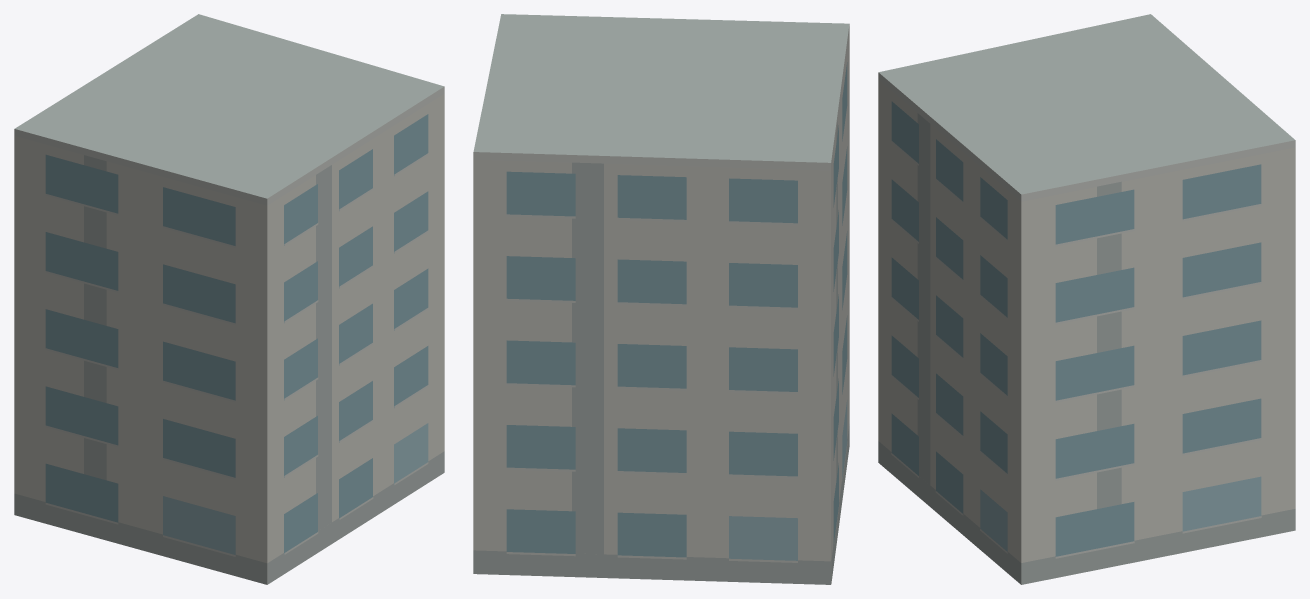
The model's file is survey-upis-32891458.glb.
3 renders of one model, left to right at view 1: azimuth 30°, elevation 25°; view 2: azimuth 150°, elevation 25°; view 3: azimuth 270°, elevation 25°, orthographic. The views are drawn at different scales.
Visible parts, largest first — view 1: survey-upis-32891458.tmp; view 2: survey-upis-32891458.tmp; view 3: survey-upis-32891458.tmp.
Part boxes in pixels (left/top/right/bottom): survey-upis-32891458.tmp: left=14, top=14, right=444, bottom=584; survey-upis-32891458.tmp: left=473, top=14, right=849, bottom=584; survey-upis-32891458.tmp: left=878, top=14, right=1295, bottom=584.
Size of the model in its own units: 13.4 by 13.5 by 13.09.
